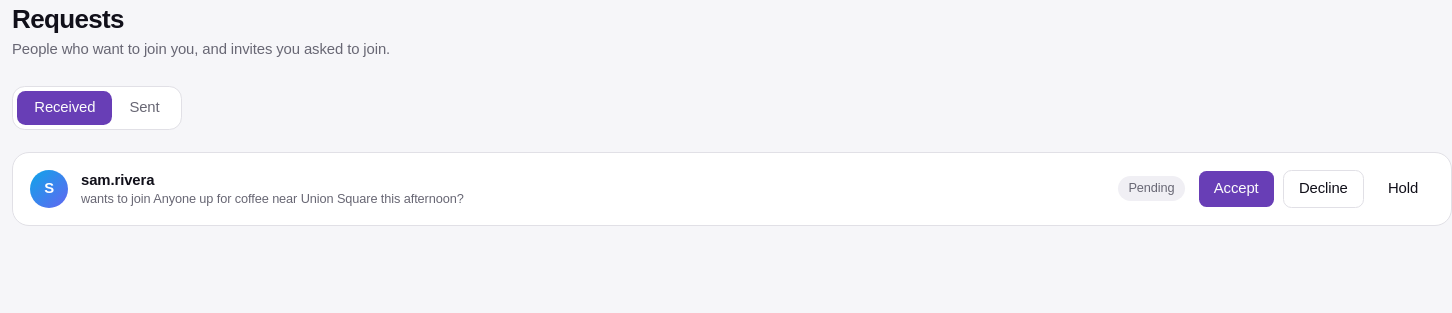
Test: EngagementRequestsPage › shows Received by default and switches to Sent
expect the link "sam.rivera" is shown: met, box [81,170,154,191]
Step 1. Click the link "Sent" → (144, 107), box [129,99,160,115]
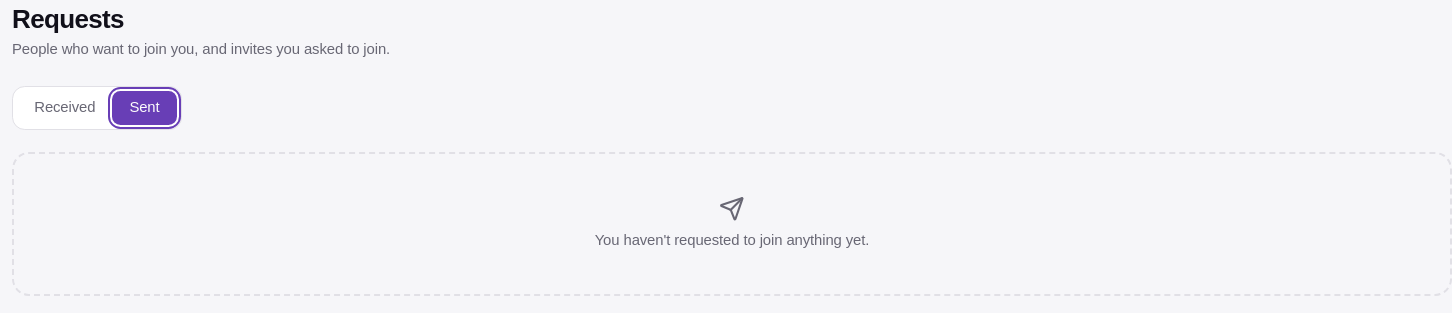
expect the text "You haven't requested to join anything yet." is shown: met, box [595,230,869,251]
expect the link "sam.rivera" is gone: met
